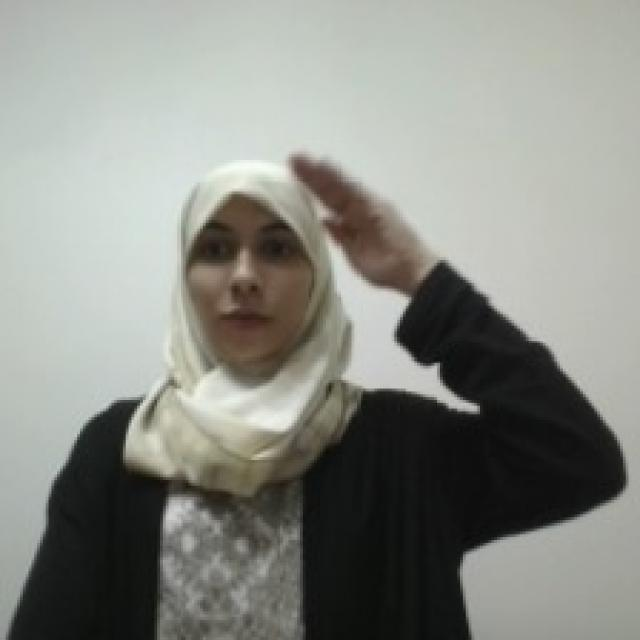Thanks: (284, 143, 426, 289)
